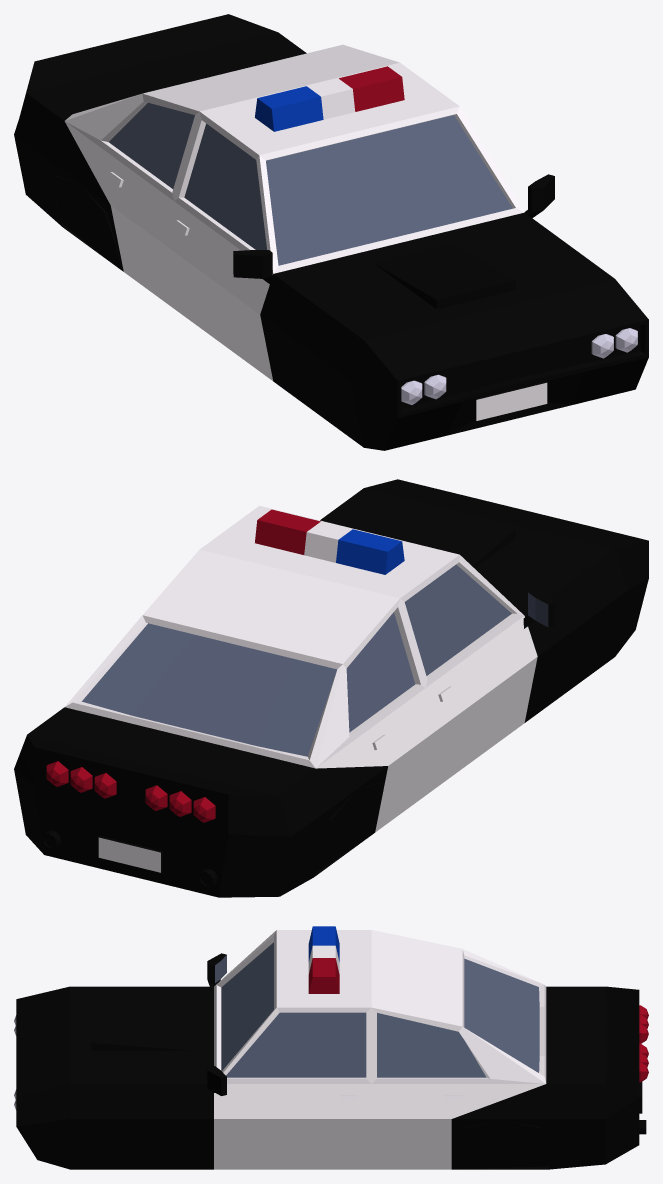
Rendered from Police Muscle.glb.
The picture shows the model from 3 angles, top to bottom: view 1: azimuth 30°, elevation 25°; view 2: azimuth 150°, elevation 25°; view 3: azimuth 270°, elevation 25°; orthographic projection. The views are drawn at different scales.
Parts seen in each view (by area): view 1: Police Muscle; view 2: Police Muscle; view 3: Police Muscle.
Boxes of the visible parts, x1,y1,x2,y2 form: Police Muscle: (14,14,648,450); Police Muscle: (14,479,648,897); Police Muscle: (14,926,648,1169).
Bounding box in the file's own units: 281 × 189 × 606.
